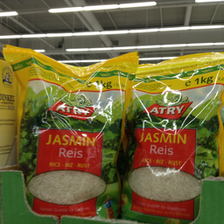rice: (2, 44, 139, 217), (116, 58, 224, 222)
